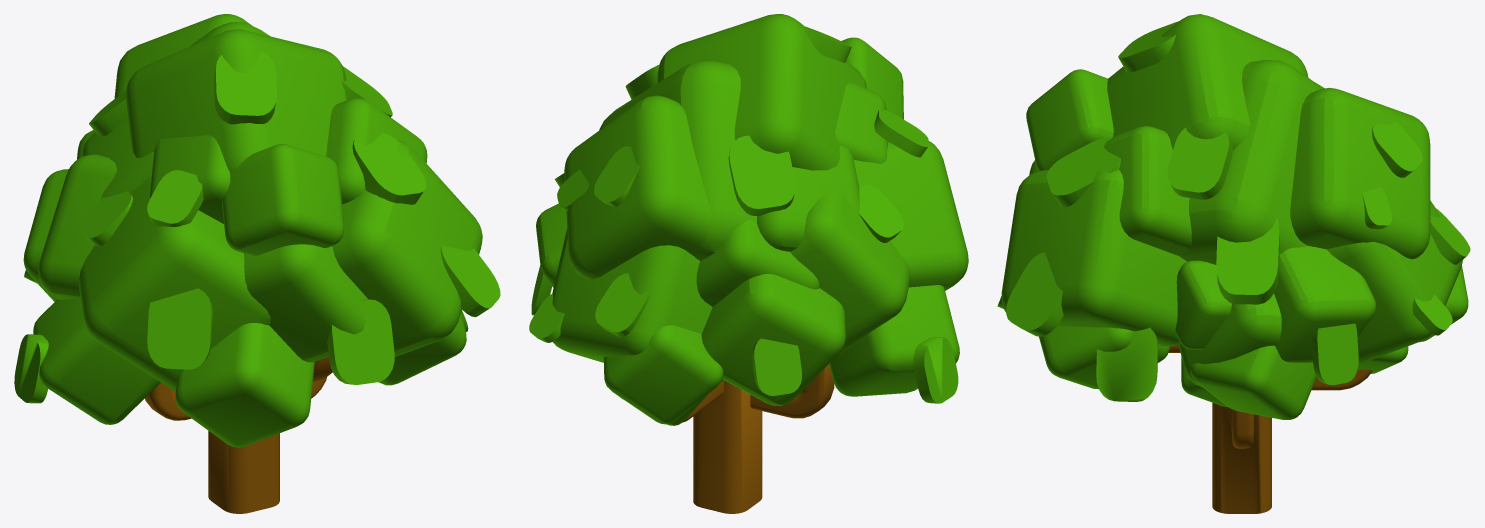
File: tree.fbx
3 renders of one model, left to right at view 1: azimuth 30°, elevation 25°; view 2: azimuth 150°, elevation 25°; view 3: azimuth 270°, elevation 25°, orthographic. The views are drawn at different scales.
Parts seen in each view (by area): view 1: Cube.078; view 2: Cube.078; view 3: Cube.078.
Boxes of the visible parts, x1,y1,x2,y2 form: Cube.078: [14, 14, 500, 513]; Cube.078: [529, 14, 968, 513]; Cube.078: [997, 14, 1470, 513].
Bounding box in the file's own units: 1231 × 1461 × 1332.
